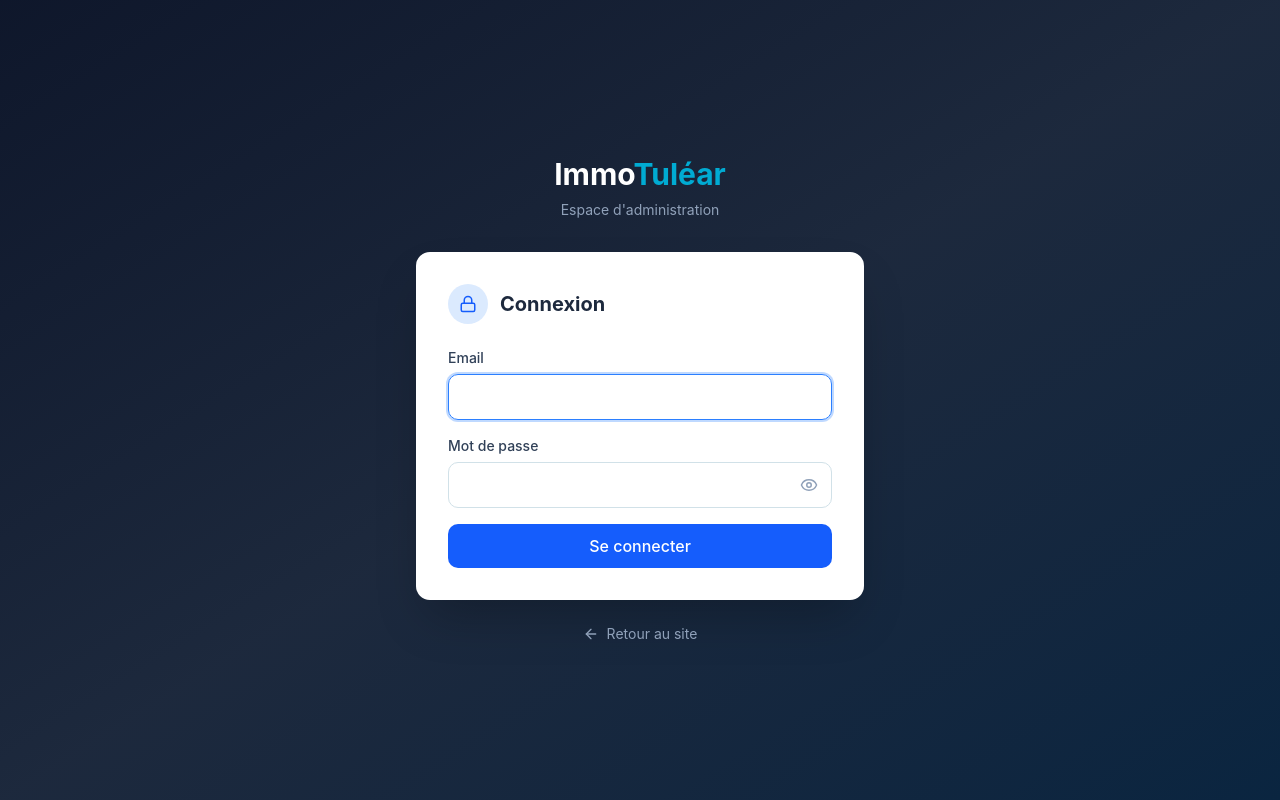
Test: Page de connexion admin › affiche l'erreur si la connexion échoue
Type "admin@test.com" into the field labelled "Email" at (640, 397), box [448, 374, 832, 420]
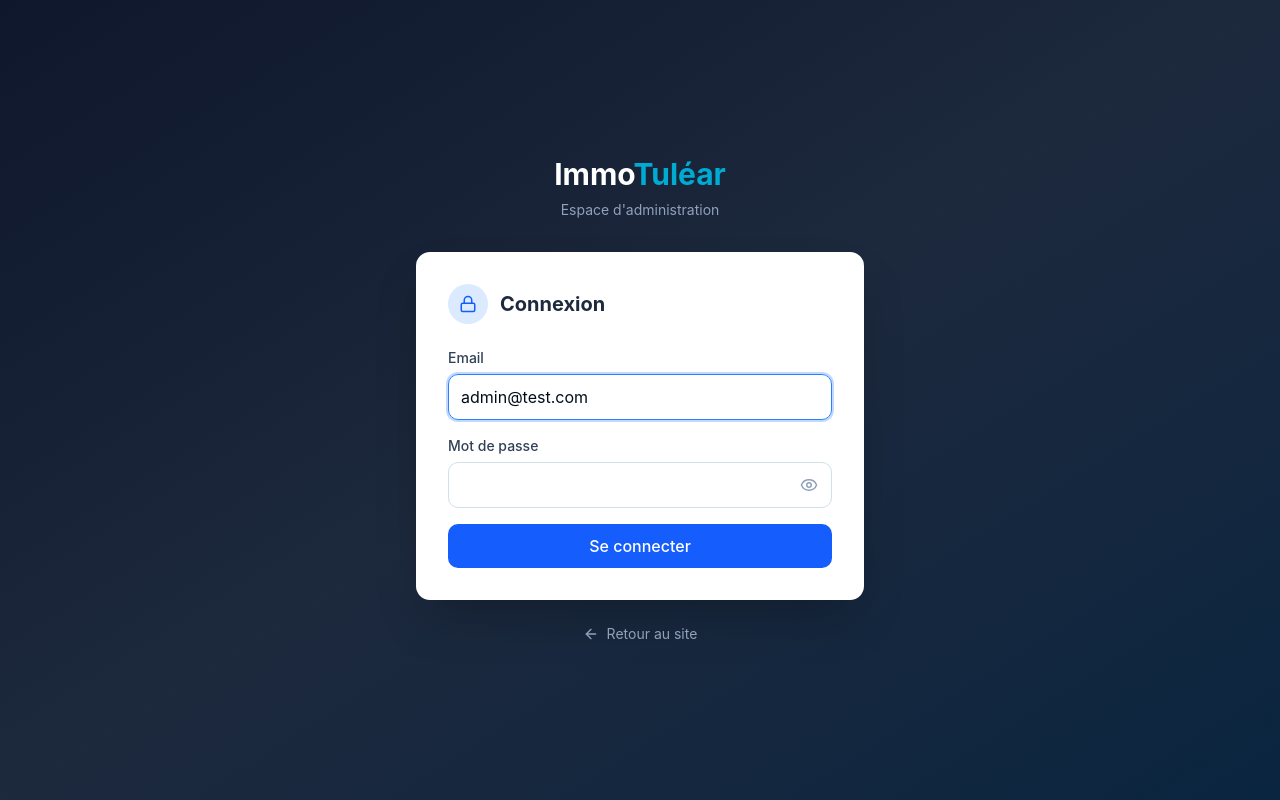
Type "mauvais" into the password field labelled "Mot de passe" at (640, 485), box [448, 462, 832, 508]
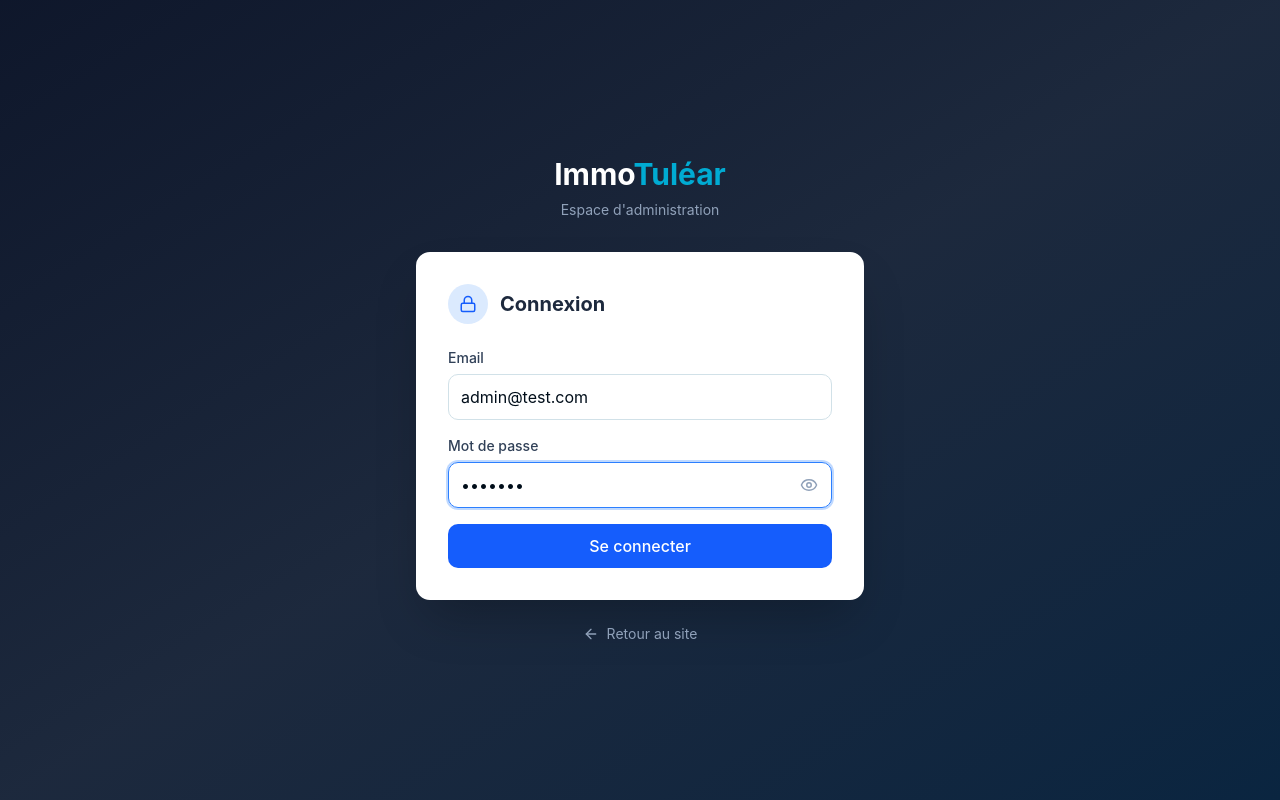
Click the button "Se connecter" at (640, 546), box [448, 524, 832, 568]
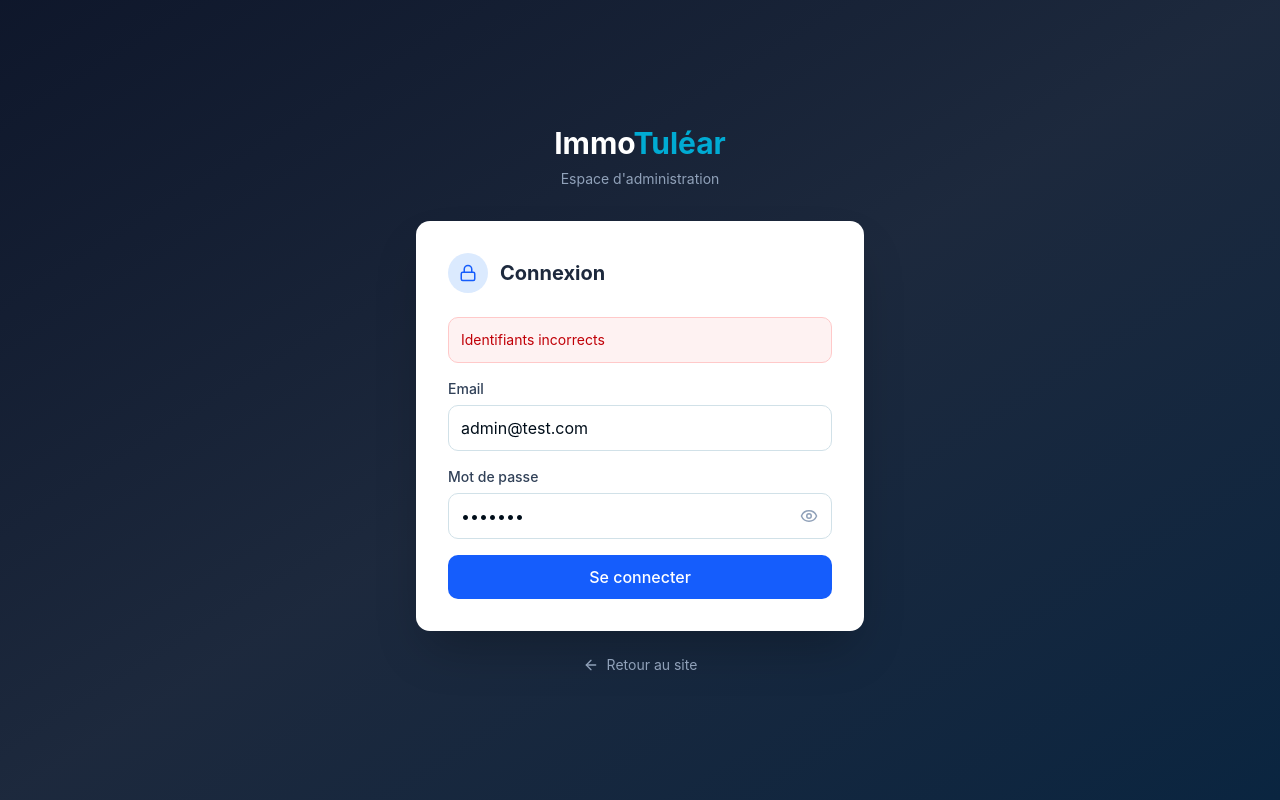
Now the message reads "Identifiants incorrects", box [461, 331, 605, 348]
